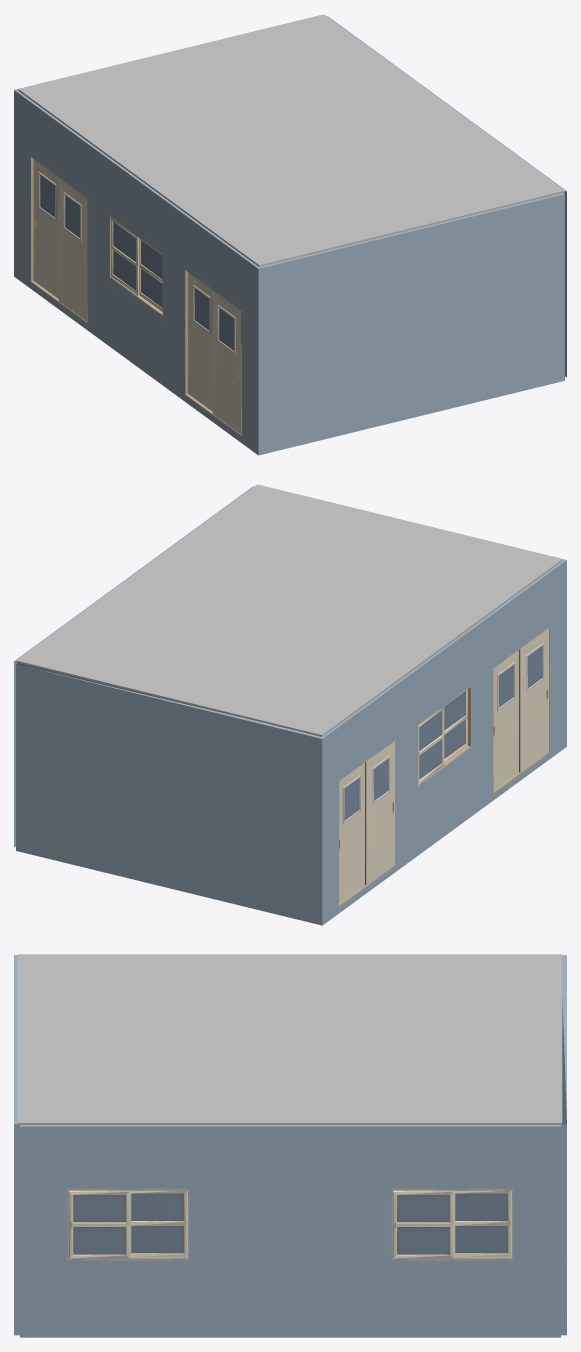
The model's file is class Room new.FBX.
3 views of the same model, one above another, from view 1: azimuth 30°, elevation 25°; view 2: azimuth 150°, elevation 25°; view 3: azimuth 270°, elevation 25° (orthographic). The views are drawn at different scales.
Parts seen in each view (by area): view 1: Class_Room_wall, Roof, Window Door; view 2: Class_Room_wall, Roof, Window Door; view 3: Class_Room_wall, Roof, Window Door.
Part boxes in pixels (<box>): Class_Room_wall: <box>14,15,566,455</box>; Roof: <box>18,14,564,266</box>; Window Door: <box>33,159,241,434</box>; Class_Room_wall: <box>14,486,566,925</box>; Roof: <box>16,484,562,736</box>; Window Door: <box>339,628,549,902</box>; Class_Room_wall: <box>14,955,566,1337</box>; Roof: <box>17,954,562,1124</box>; Window Door: <box>69,1190,511,1258</box>.
Size of the model in its own units: 8.68 by 5.01 by 11.78.
